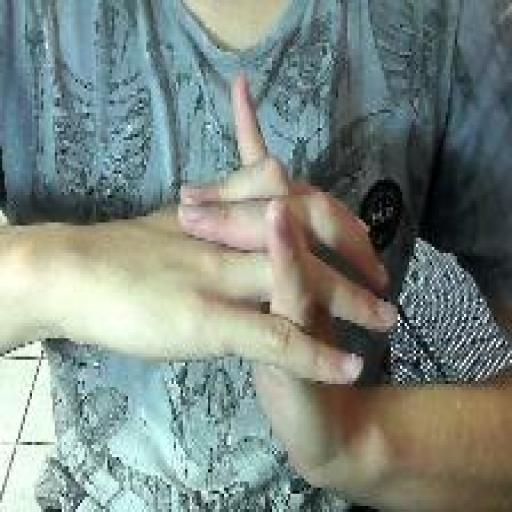Ushi -ox-: (174, 72, 400, 498)
